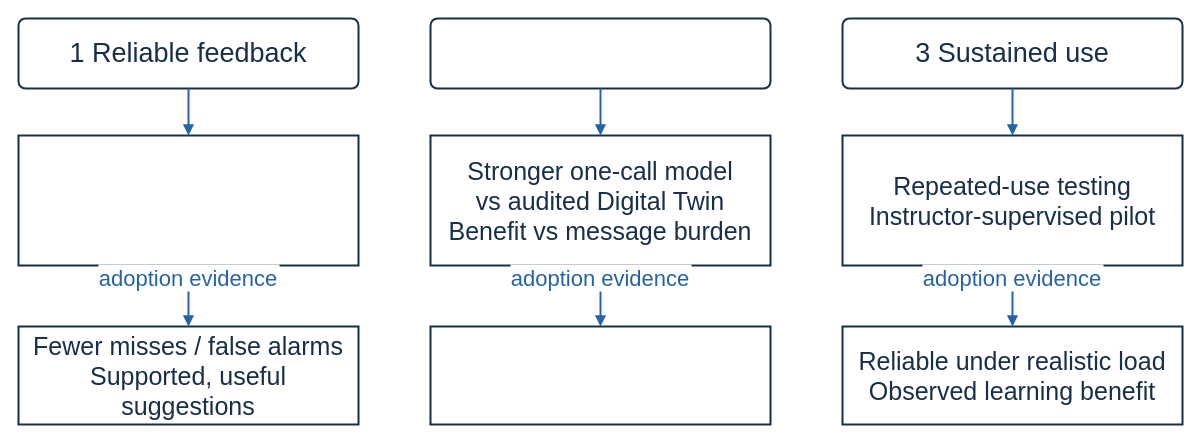
Image size: 1200x442. Some labels were removed from this diagram. The centre of each missing label's shape, as x and y in pixels:
2 Better teaching: point 600,53
Rules vs LLM / hybrid labels Fixed vs model proposals: point 188,200
Valid reviewer, paired inputs Quality, delay and cost: point 600,375
